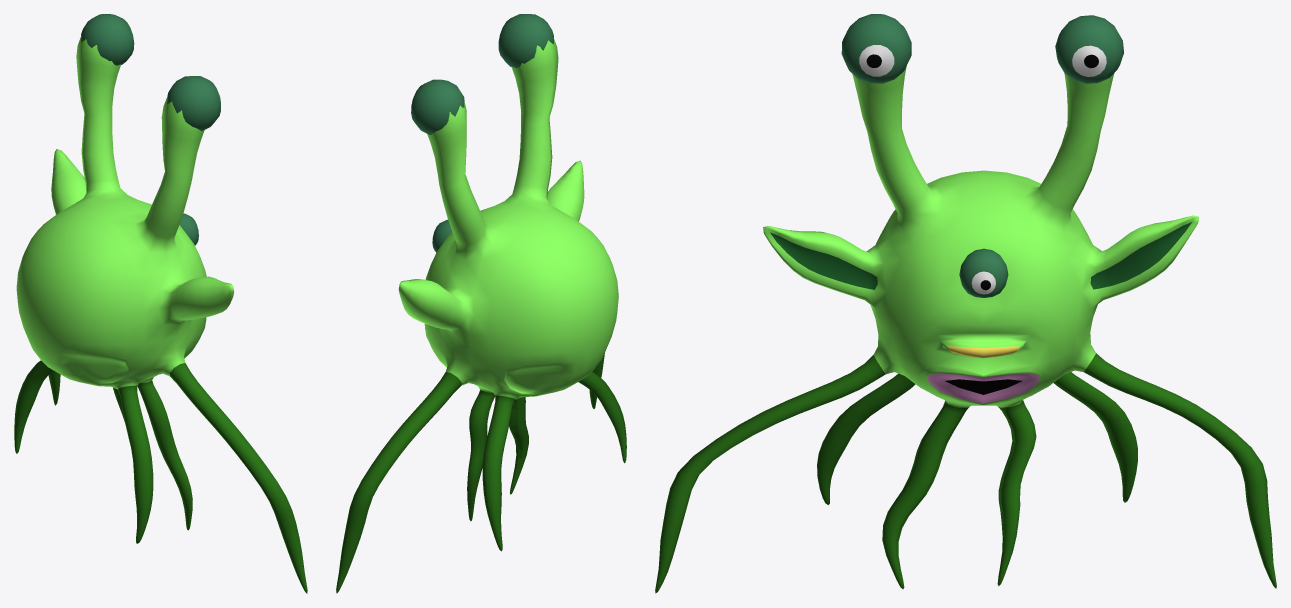
File: monster_cow.fbx
3 renders of one model, left to right at view 1: azimuth 30°, elevation 25°; view 2: azimuth 150°, elevation 25°; view 3: azimuth 270°, elevation 25°, orthographic. The views are drawn at different scales.
Visible parts, largest first — view 1: Sphere.008; view 2: Sphere.008; view 3: Sphere.008.
Part boxes in pixels (x1,y1,x2,y2): Sphere.008: (14,14,307,593); Sphere.008: (336,14,626,593); Sphere.008: (655,14,1276,593).
Bounding box in the file's own units: 171 × 440 × 435.
